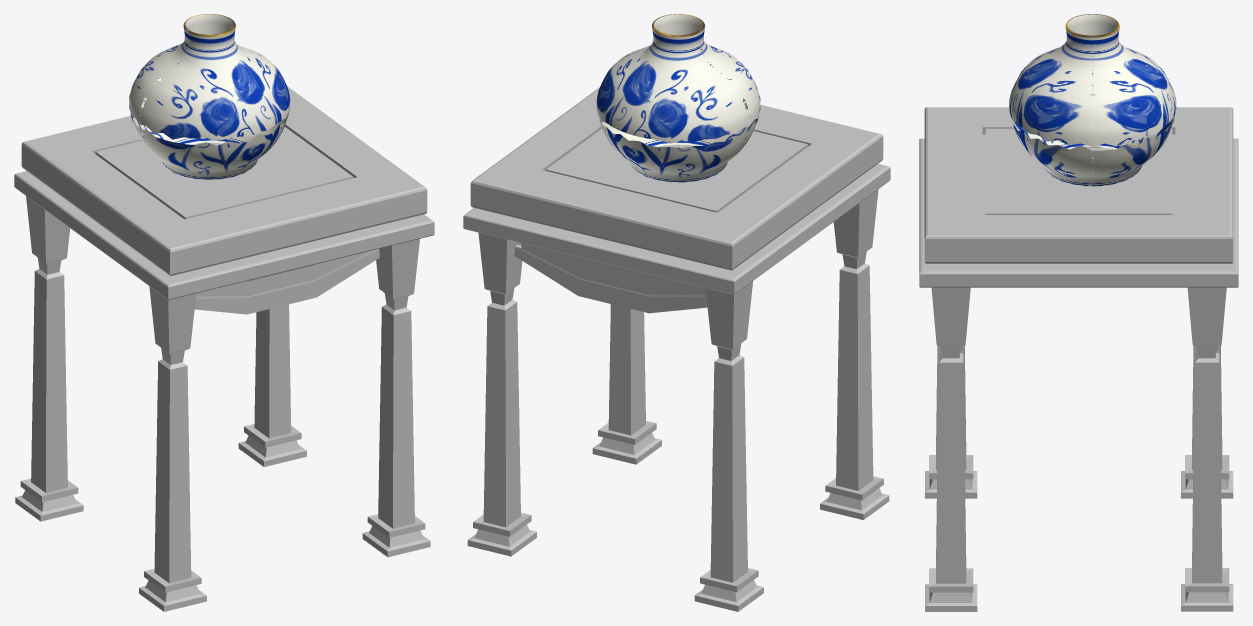
Rendered from Vase Table.fbx.
The picture shows the model from 3 angles, left to right: view 1: azimuth 30°, elevation 25°; view 2: azimuth 150°, elevation 25°; view 3: azimuth 270°, elevation 25°; orthographic projection. The views are drawn at different scales.
Visible parts, largest first — view 1: pCube1217, pCube1219, Broken_Vase:polySurface2pCylinder3, pCube1221, pCube1222, pCube1220, pCube1224, Broken_Vase:pCylinder3polySurface1; view 2: pCube1217, pCube1219, Broken_Vase:polySurface2pCylinder3, pCube1220, pCube1221, pCube1222, pCube1223, Broken_Vase:pCylinder3polySurface1; view 3: pCube1217, pCube1219, Broken_Vase:polySurface2pCylinder3, pCube1222, Broken_Vase:pCylinder3polySurface1, pCube1220, pCube1221.
Boxes of the visible parts, bbox=[...] form: pCube1217: bbox=[21, 86, 427, 275]; pCube1219: bbox=[14, 171, 434, 466]; Broken_Vase:polySurface2pCylinder3: bbox=[129, 14, 290, 141]; pCube1221: bbox=[139, 286, 206, 611]; pCube1222: bbox=[362, 239, 430, 557]; pCube1220: bbox=[15, 196, 83, 521]; pCube1224: bbox=[194, 249, 379, 314]; Broken_Vase:pCylinder3polySurface1: bbox=[130, 97, 288, 180]; pCube1217: bbox=[470, 87, 883, 270]; pCube1219: bbox=[463, 164, 890, 556]; Broken_Vase:polySurface2pCylinder3: bbox=[596, 14, 760, 143]; pCube1220: bbox=[694, 281, 763, 611]; pCube1221: bbox=[820, 189, 889, 519]; pCube1222: bbox=[592, 304, 661, 464]; pCube1223: bbox=[514, 243, 707, 313]; Broken_Vase:pCylinder3polySurface1: bbox=[598, 98, 758, 182]; pCube1217: bbox=[924, 107, 1233, 263]; pCube1219: bbox=[919, 138, 1238, 611]; Broken_Vase:polySurface2pCylinder3: bbox=[1009, 14, 1176, 146]; pCube1222: bbox=[925, 287, 977, 611]; Broken_Vase:pCylinder3polySurface1: bbox=[1010, 93, 1174, 186]; pCube1220: bbox=[1181, 345, 1233, 498]; pCube1221: bbox=[925, 345, 977, 498].
Bounding box in the file's own units: 141 × 250 × 140.
